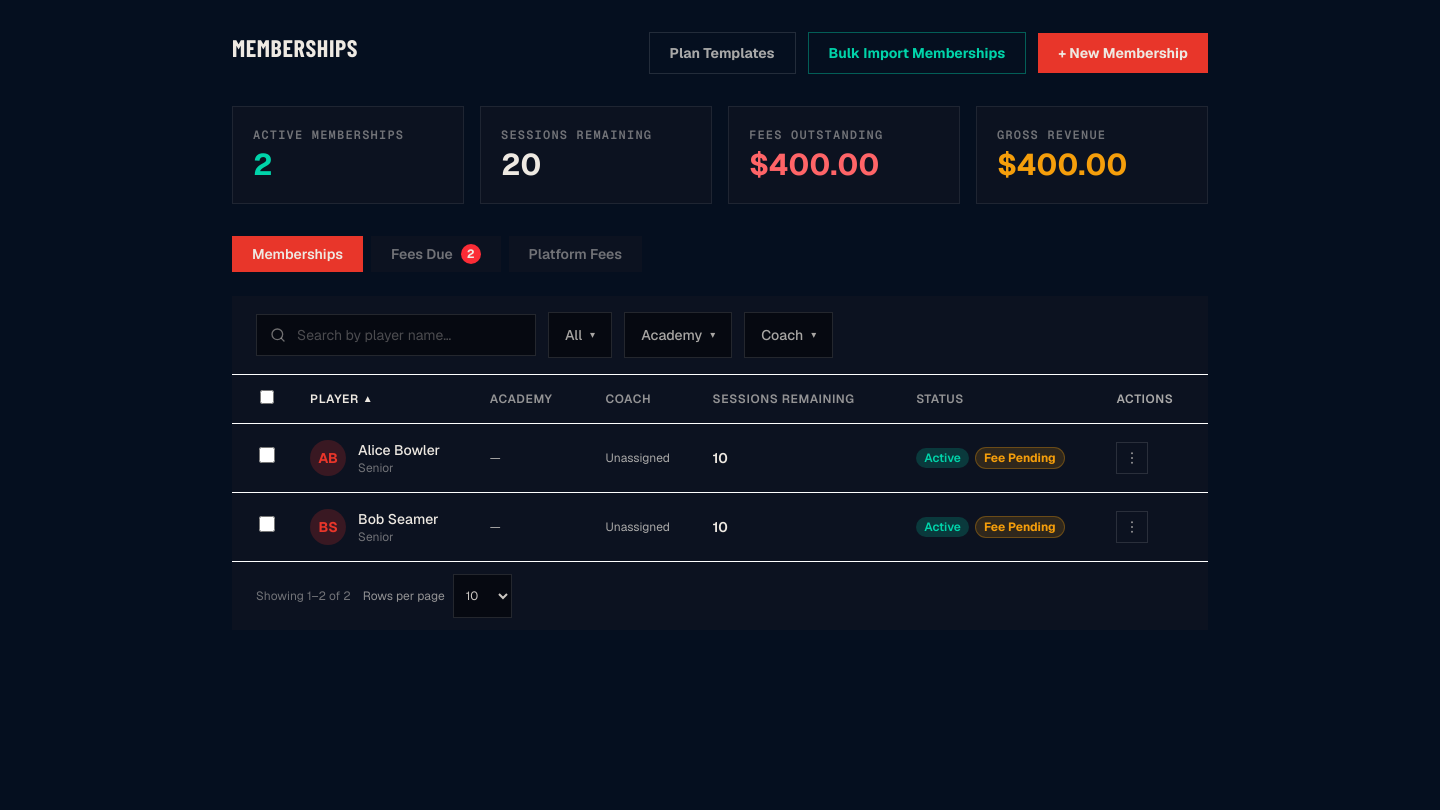
Test case: SessionPacksClient › Bulk Mark Paid records payment for every selected pending membership
Expected: the text "Alice Bowler" is shown, x1=358 y1=440 x2=440 y2=460
Click the checkbox titled "Select all" at {"x": 267, "y": 397}, box x1=260 y1=390 x2=274 y2=404
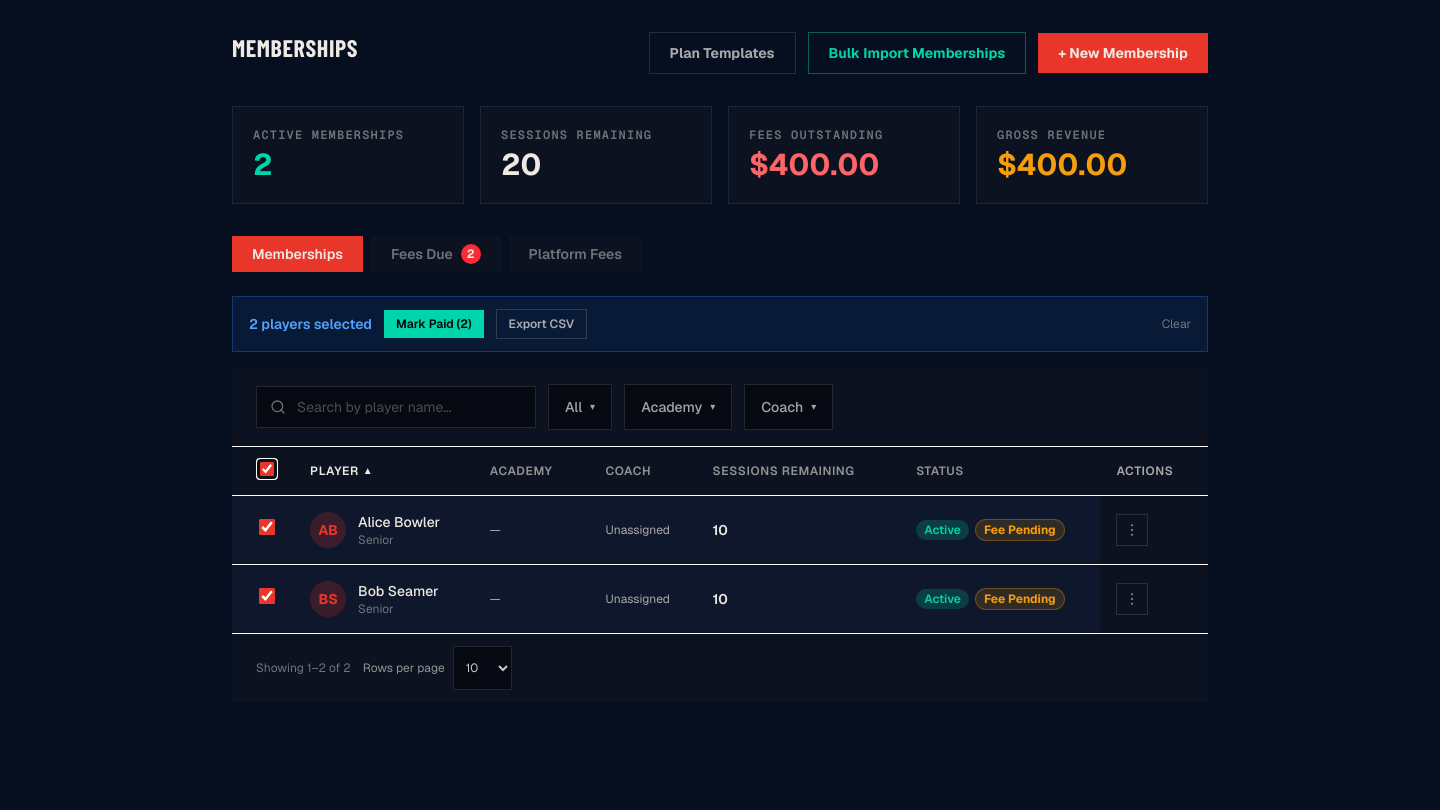
Click the button "Mark Paid (2)" at {"x": 434, "y": 324}, box x1=384 y1=310 x2=484 y2=338
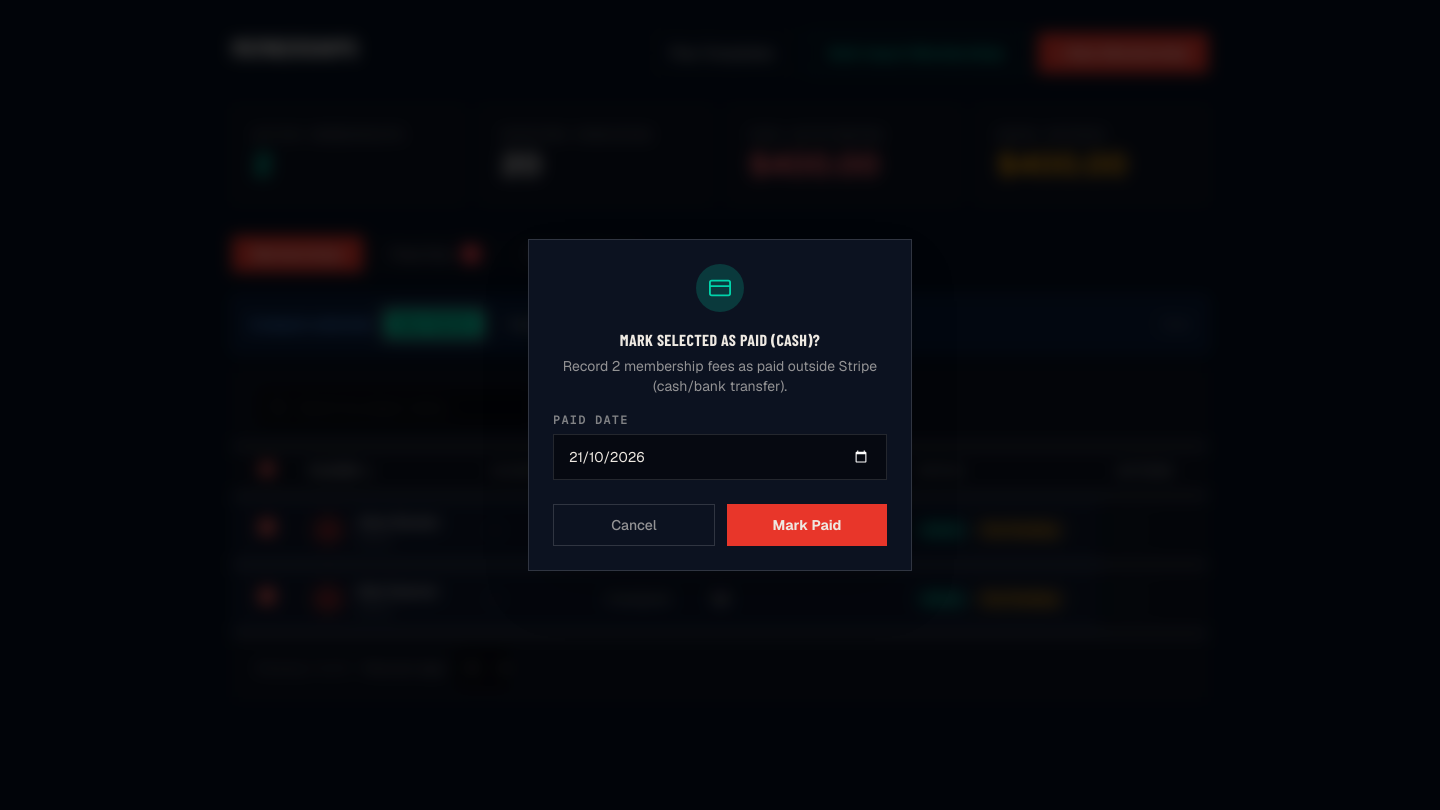
Result: the heading "Mark Selected as Paid (Cash)?" is shown at x1=620 y1=330 x2=820 y2=349
Click the button "Mark Paid" at {"x": 807, "y": 525}, box x1=727 y1=504 x2=887 y2=546
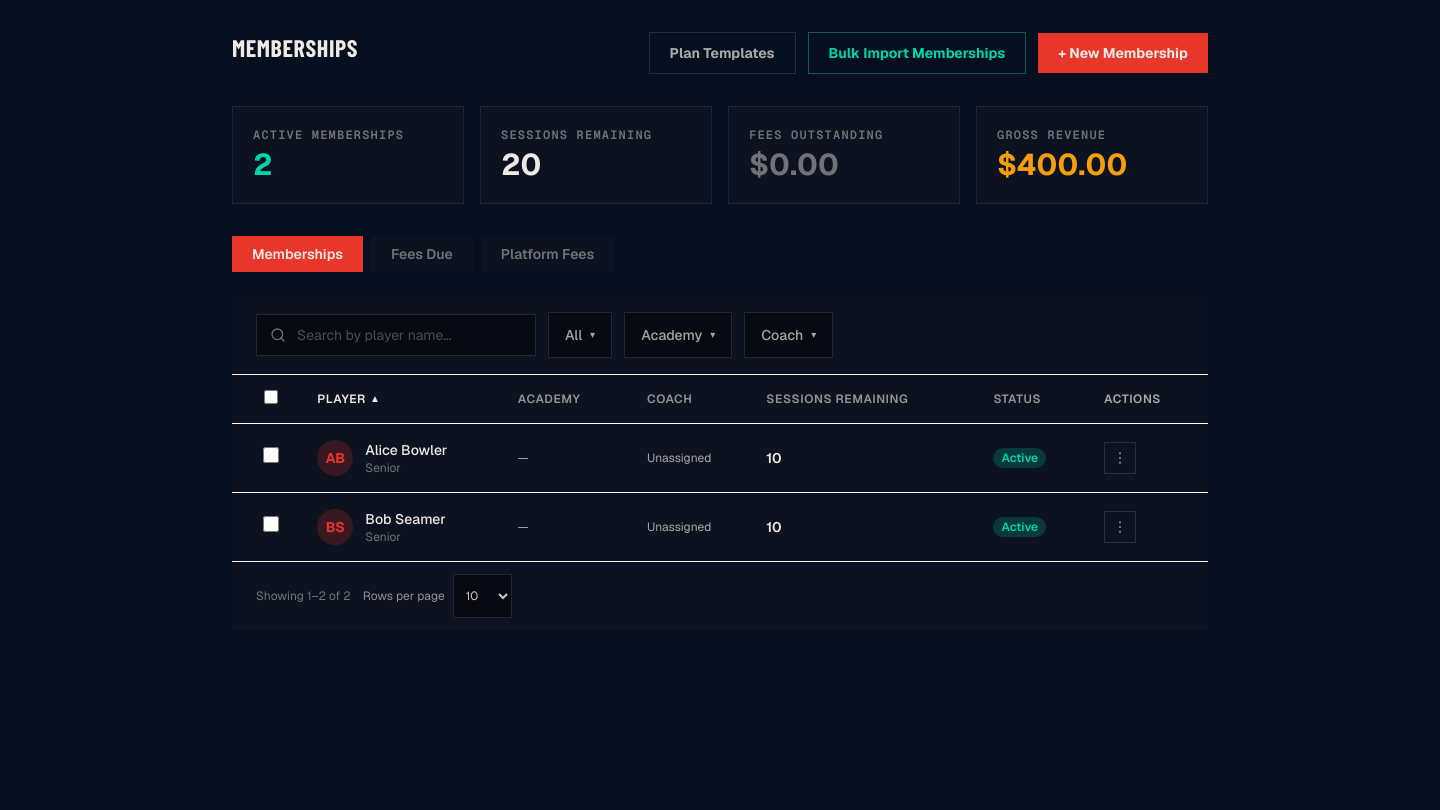
Result: the heading "Mark Selected as Paid (Cash)?" is gone
Result: the text "selected" is gone
